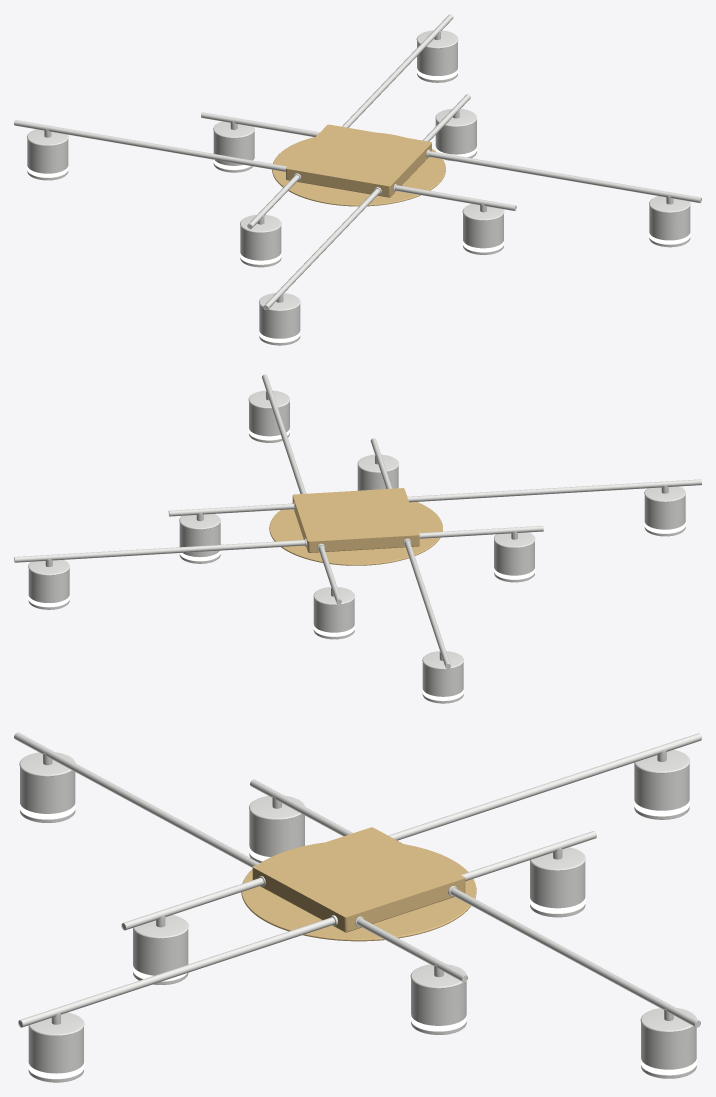
3 views of the same model, one above another, from view 1: azimuth 30°, elevation 25°; view 2: azimuth 150°, elevation 25°; view 3: azimuth 270°, elevation 25° (orthographic). The views are drawn at different scales.
Visible parts, largest first — view 1: frame, gold, gx53_band; view 2: frame, gold, gx53_band; view 3: frame, gold, gx53_band.
Part boxes in pixels (left/top/right/bottom): frame: left=14, top=14, right=701, bottom=345; gold: left=272, top=124, right=445, bottom=206; gx53_band: left=27, top=67, right=690, bottom=342; frame: left=14, top=374, right=701, bottom=703; gold: left=269, top=488, right=442, bottom=565; gx53_band: left=28, top=427, right=685, bottom=700; frame: left=14, top=732, right=701, bottom=1082; gold: left=241, top=827, right=476, bottom=941; gx53_band: left=19, top=799, right=696, bottom=1078.
Bounding box in the file's own units: 0.8751 × 0.095 × 0.8769.
